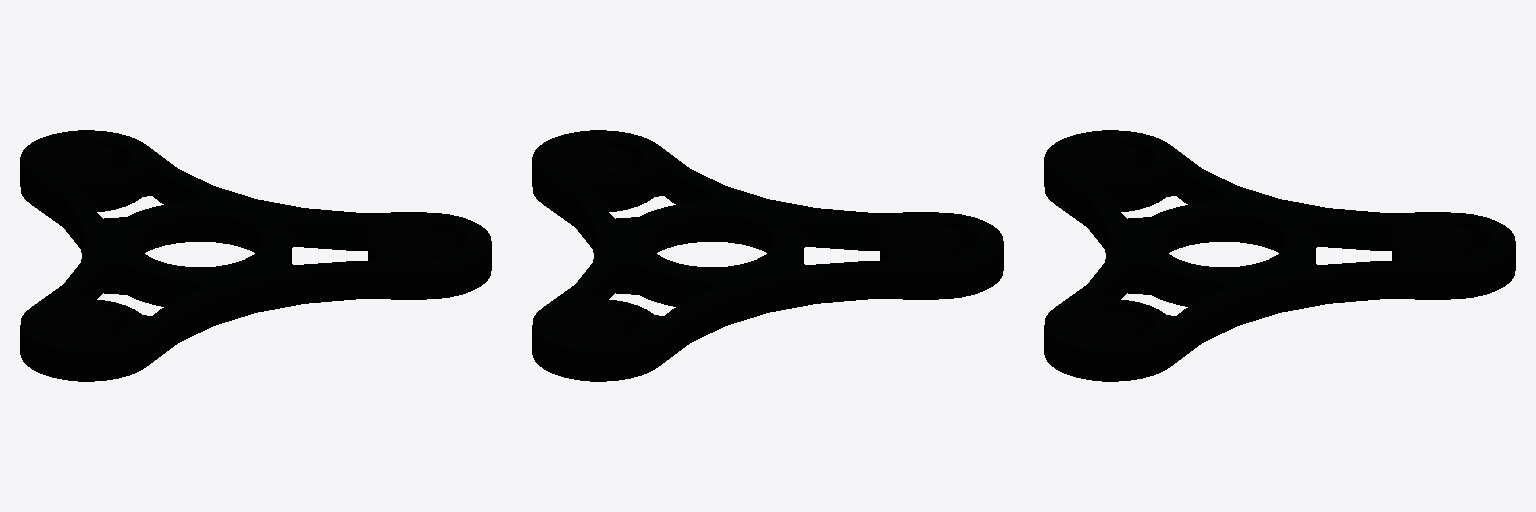
robot.urdf — screw:
<?xml version="1.0" ?>
<robot name="screw">
  <link name="base_link">
    <inertial>
      <!-- <origin rpy="0 0.0 0.0" xyz="0 0.1 -0.2"/>s -->
      <mass value="0.005"/>
      <inertia ixx="0.000001" ixy="0.0" ixz="0.0" iyy="0.000001" iyz="0.0" izz="0.000001"/>
    </inertial>
    <visual>
      <!-- <origin rpy="0 0.0 1.0" xyz="0 0.0 0.0"/> -->
      <geometry>
        <mesh filename="package://demo_world/meshes/spinner_body.dae" scale="0.5 0.5 0.5"/>
      </geometry>
    </visual>
    <collision>
      <!-- <origin rpy="0 0.0 1.0" xyz="0 0.0 0.0"/> -->
      <geometry>
        <mesh filename="package://demo_world/meshes/spinner_body.dae" scale="0.5 0.5 0.5"/>
      </geometry>
    </collision>
  </link>
</robot>

--- Render facts (derived) ---
3 views of the same robot in one strip: view 1: azimuth 30°, elevation 25°; view 2: azimuth 150°, elevation 25°; view 3: azimuth 270°, elevation 25° (orthographic).
Model screw with 1 links and 0 joints (none), rooted at base_link, posed every joint at zero.
Links seen in each view (by area): view 1: base_link; view 2: base_link; view 3: base_link.
Boxes of the visible links, x1,y1,x2,y2 form: base_link: [20, 130, 491, 381]; base_link: [532, 130, 1003, 381]; base_link: [1044, 130, 1515, 381].
Size in the robot's own frame: 0.1167 by 0.1052 by 0.0088 metres.
1 mesh visuals loaded from 1 distinct referenced files (1 Collada DAE).
